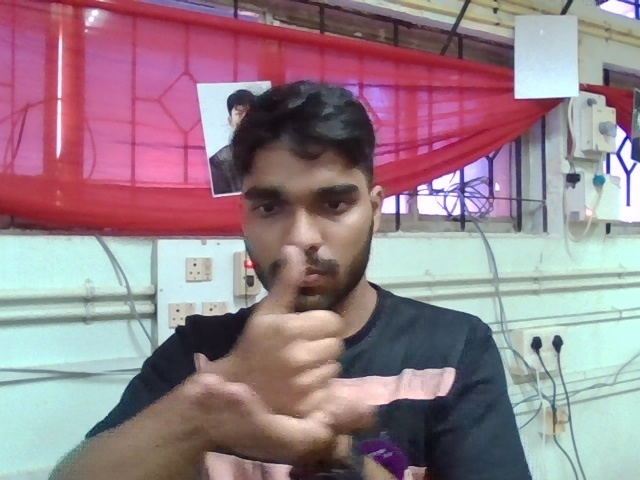help: (180, 234, 385, 480)
